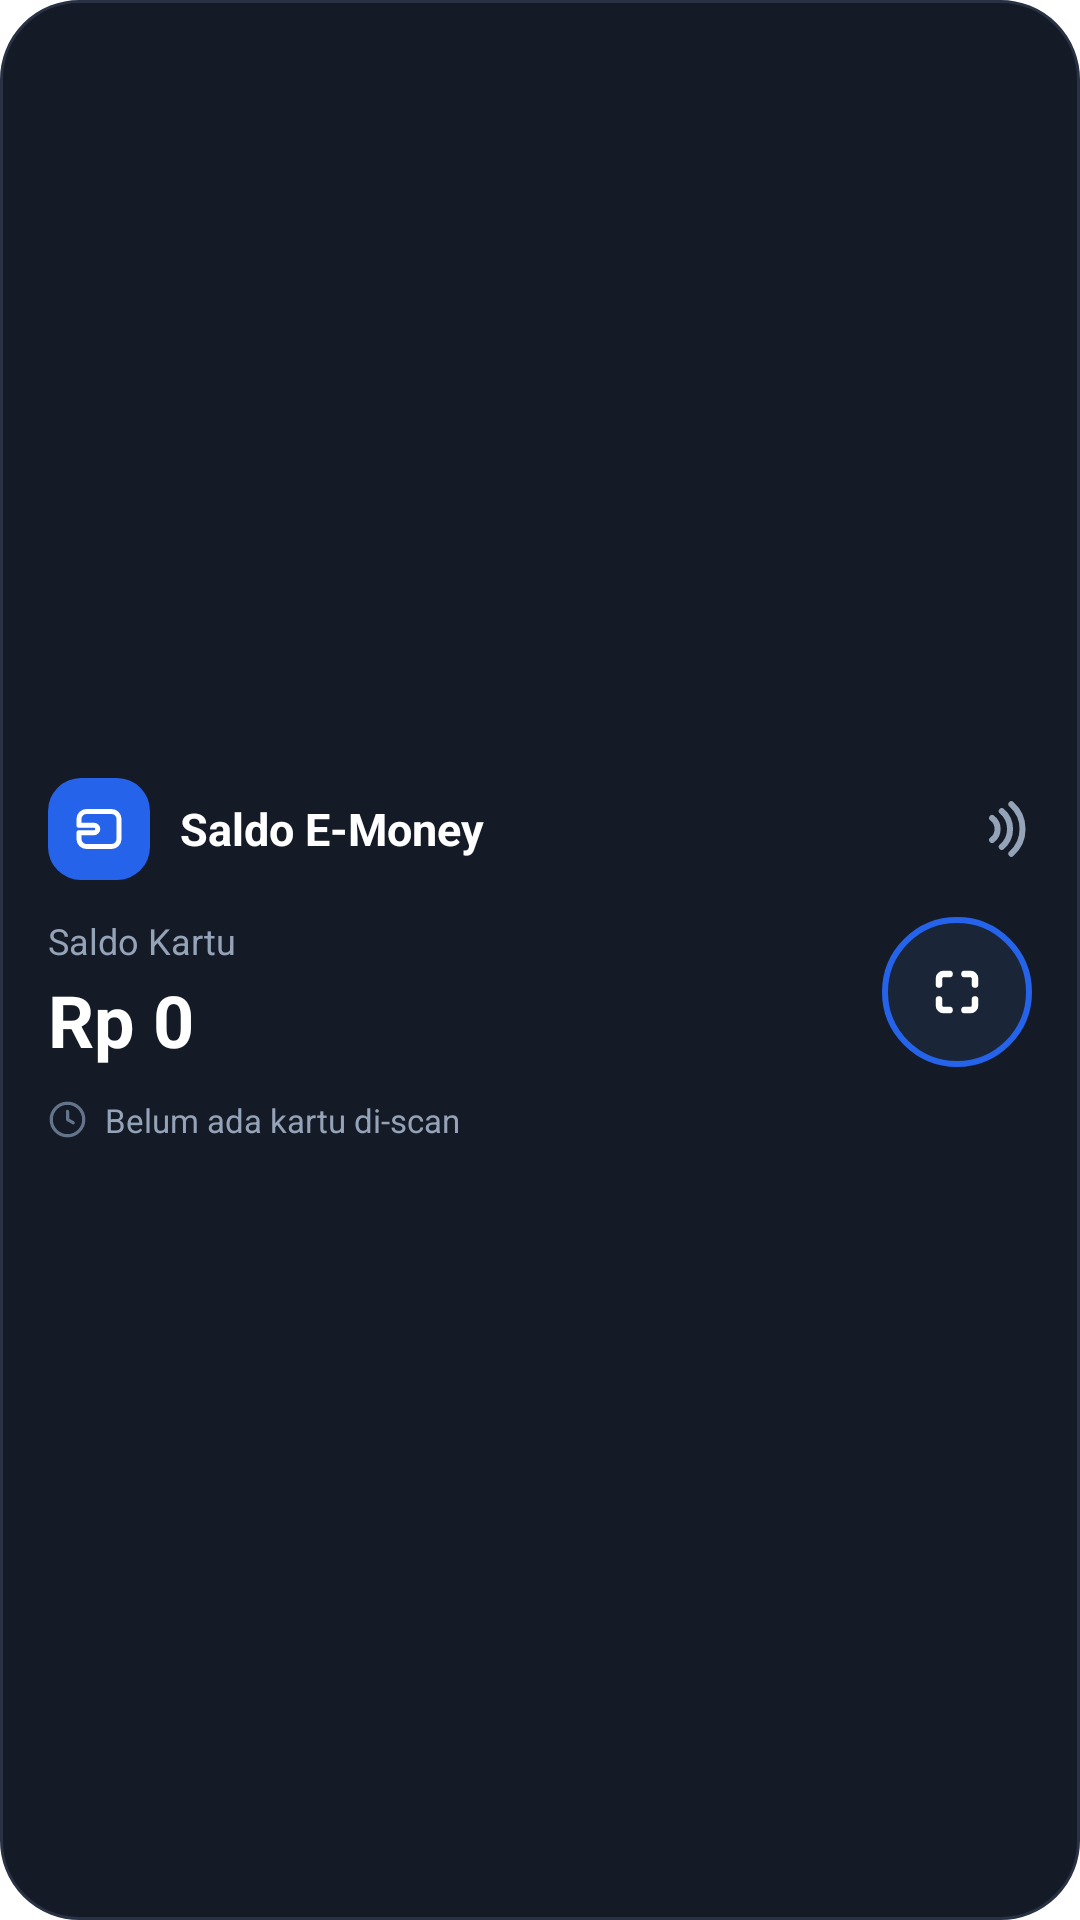

Icons on this 1080 × 1920 Android screen, each with the point to tap as (x,y):
Tap untuk Scan: (957,992)
widget clock: (67,1120)
widget contactless: (1007,829)
